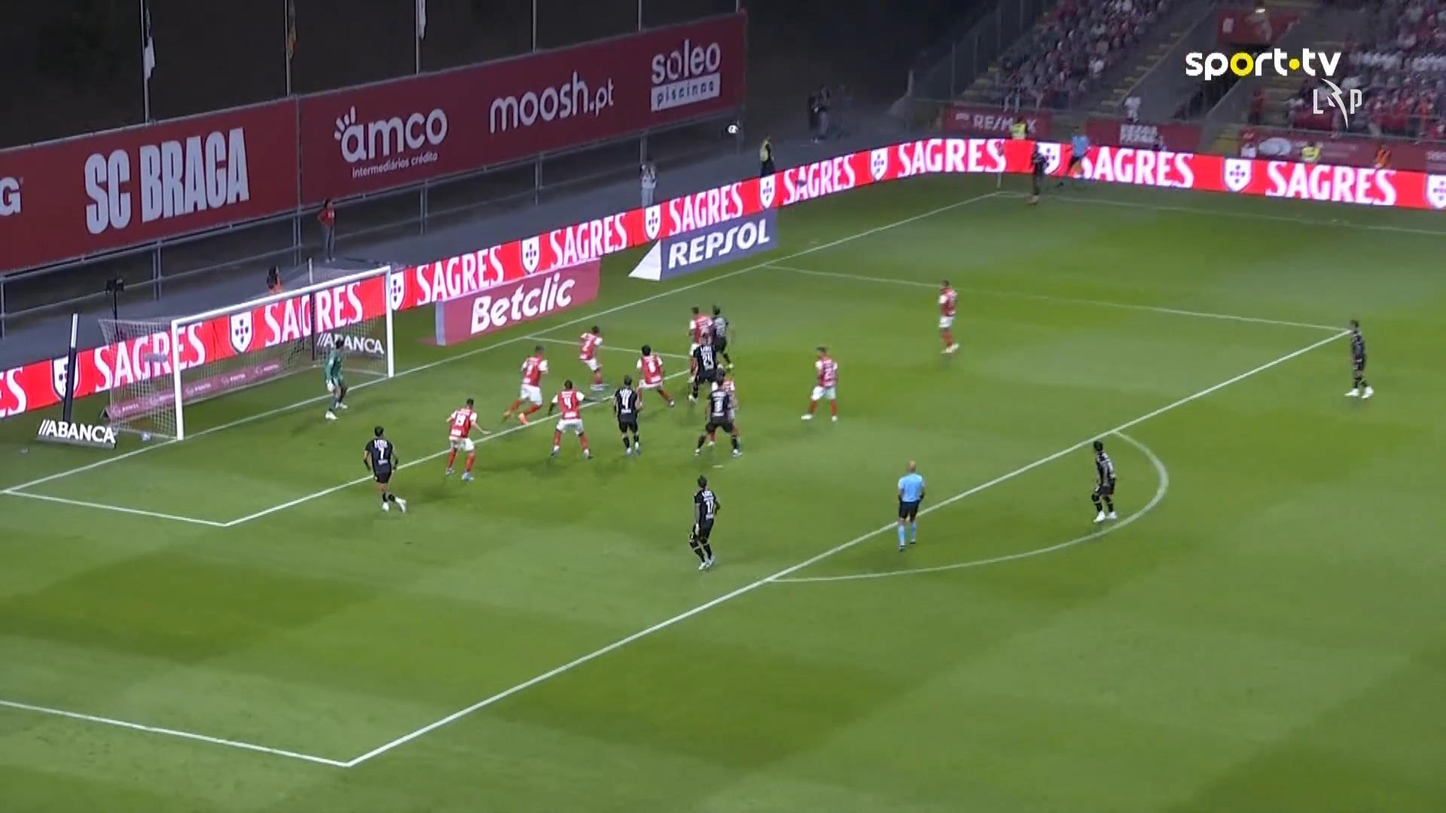goalkeeper: (323, 335, 349, 419)
player: (499, 344, 548, 425), (694, 376, 743, 457), (362, 425, 407, 513), (444, 397, 490, 480), (547, 379, 593, 459), (688, 475, 720, 570), (800, 345, 839, 422), (635, 343, 675, 408), (611, 374, 643, 455), (1344, 318, 1373, 398), (1090, 440, 1118, 522), (687, 330, 719, 400), (578, 324, 605, 389), (936, 279, 959, 354), (709, 303, 734, 370), (1026, 142, 1049, 204), (687, 305, 711, 351)
referee: (895, 459, 926, 551), (1066, 124, 1090, 178)
